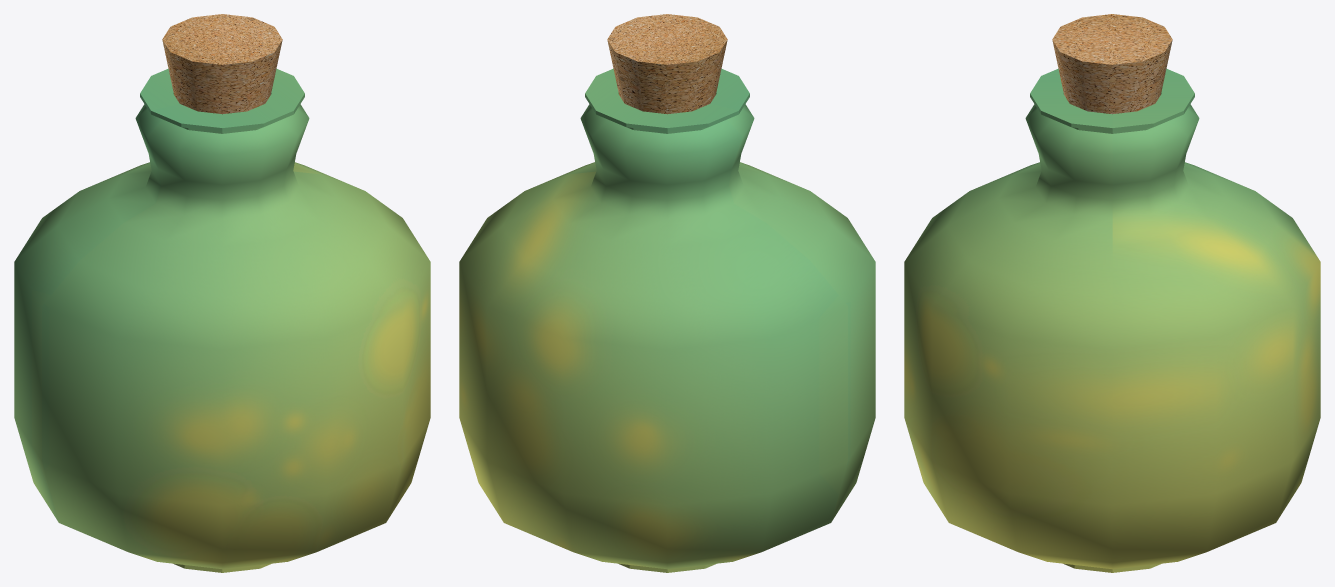
File: HEALER.fbx
3 renders of one model, left to right at view 1: azimuth 30°, elevation 25°; view 2: azimuth 150°, elevation 25°; view 3: azimuth 270°, elevation 25°, orthographic.
Parts seen in each view (by area): view 1: OilTank001, Cone001; view 2: OilTank001, Cone001; view 3: OilTank001, Cone001.
Boxes of the visible parts, <box> form: OilTank001: <box>14,68,430,572</box>; Cone001: <box>162,14,282,114</box>; OilTank001: <box>459,68,875,572</box>; Cone001: <box>607,14,727,114</box>; OilTank001: <box>904,68,1320,572</box>; Cone001: <box>1052,14,1172,114</box>.
Size of the model in its own units: 4.69 by 6.23 by 4.69.
